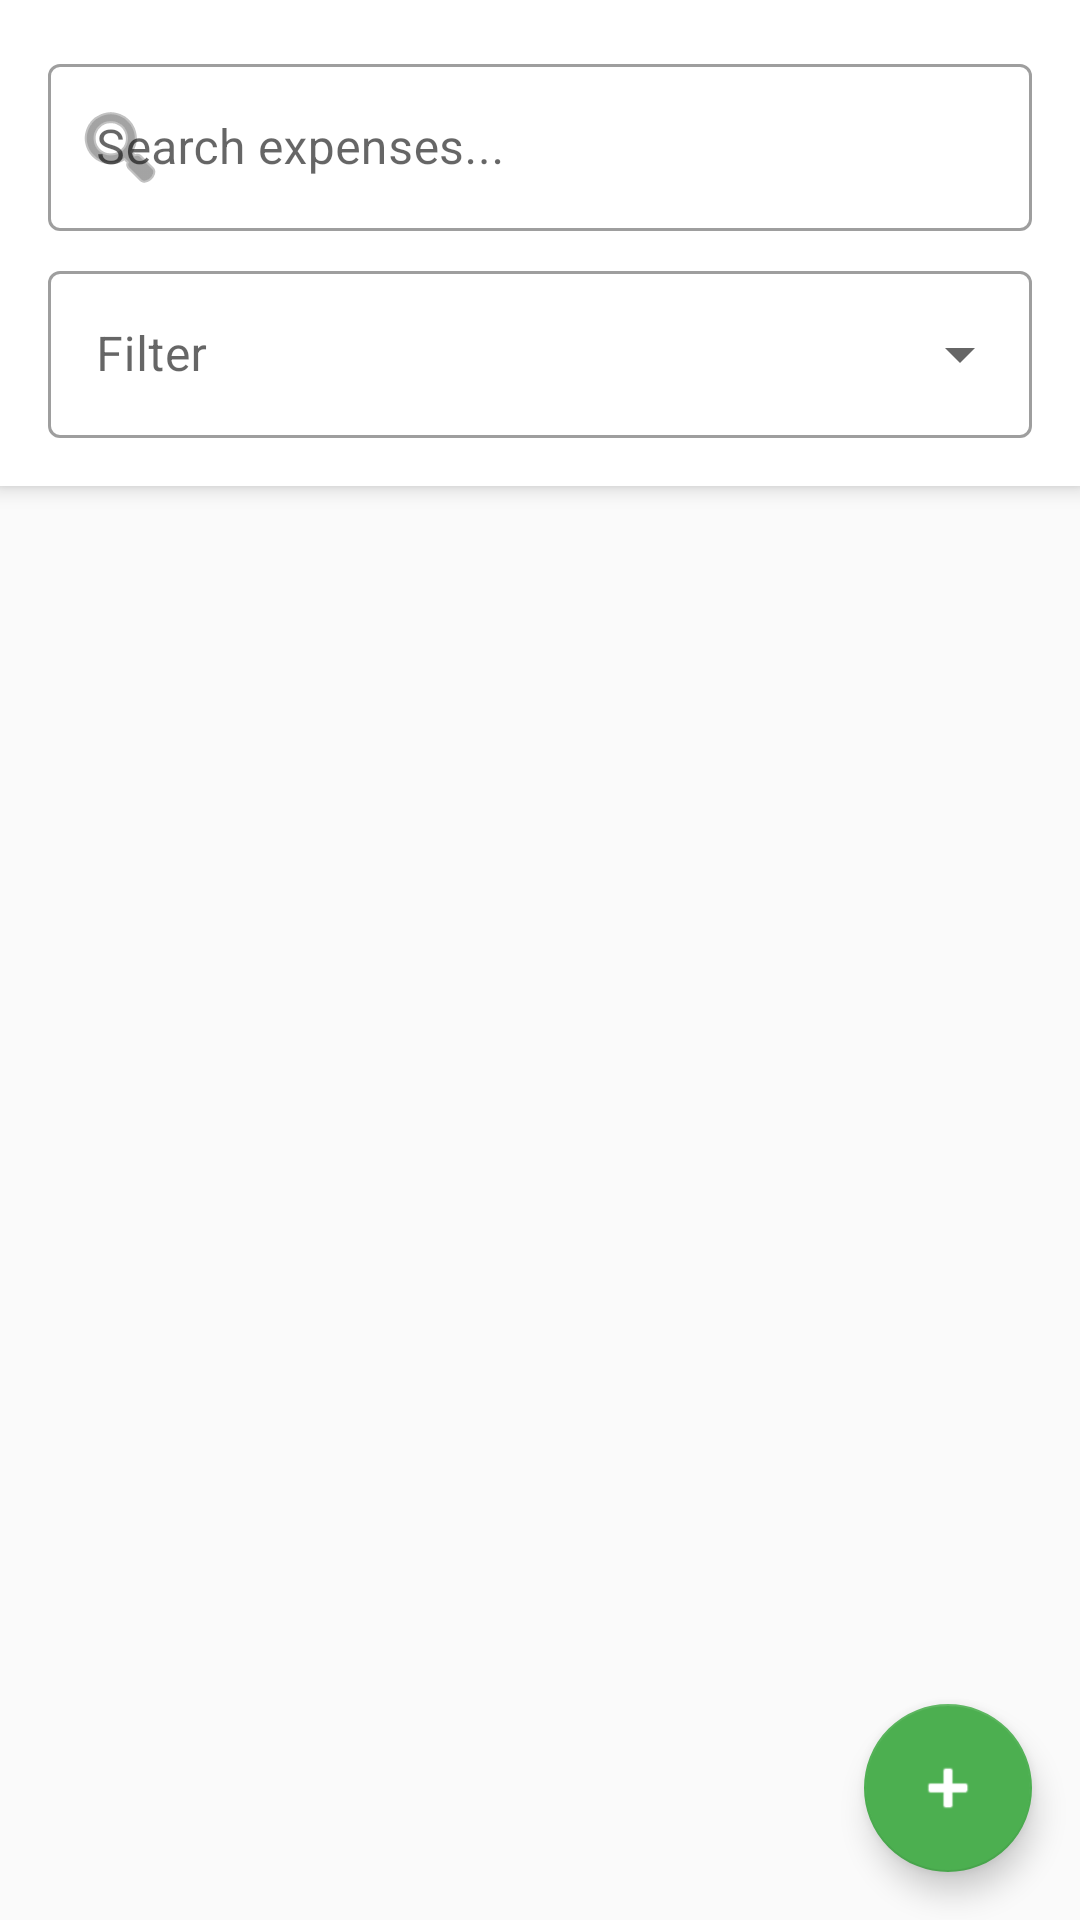

Named icons in this screenshot (1080*1920) and their centers, [x,y]:
Add Expense: [948,1788]
